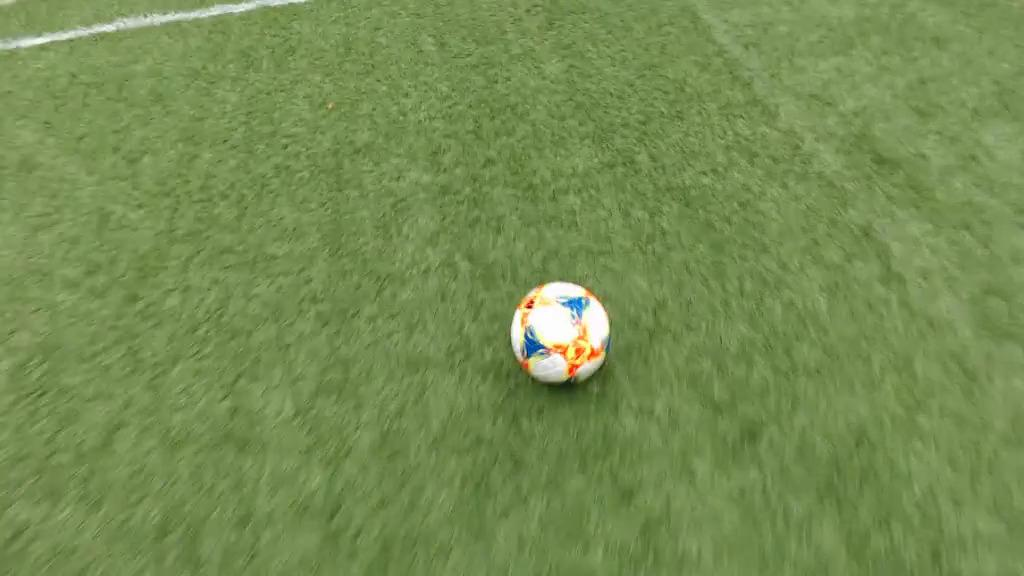ball: (511, 281, 609, 383)
